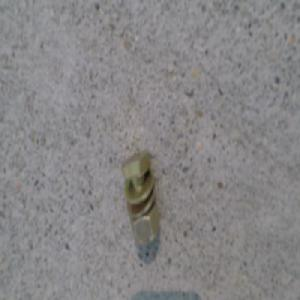BoltNutSet: (121, 150, 159, 243)
